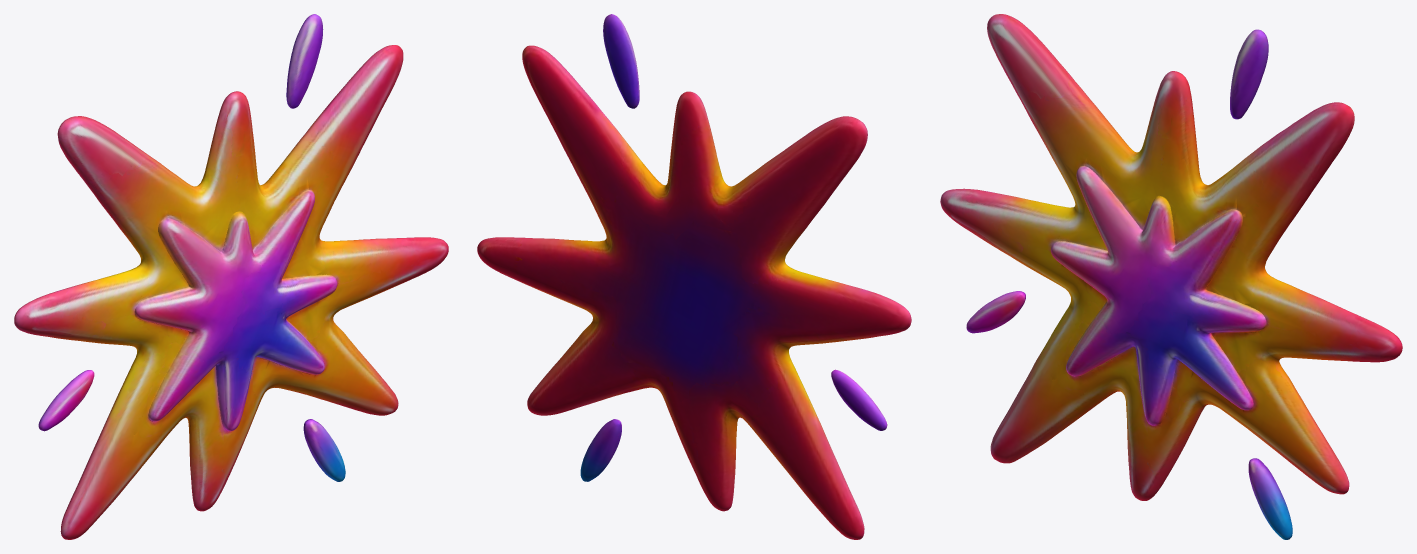
Rendered from splats__main__r2__p2.glb.
The picture shows the model from 3 angles, left to right: view 1: azimuth 30°, elevation 25°; view 2: azimuth 150°, elevation 25°; view 3: azimuth 330°, elevation 25°; orthographic projection. The views are drawn at different scales.
Parts seen in each view (by area): view 1: model; view 2: model; view 3: model.
Part boxes in pixels (x1,y1,x2,y2): model: (14,14,448,539); model: (477,14,911,539); model: (940,14,1402,539).
Bounding box in the file's own units: 1.68 × 1.75 × 0.1692.
Materials: 1 (1 with a texture image).
